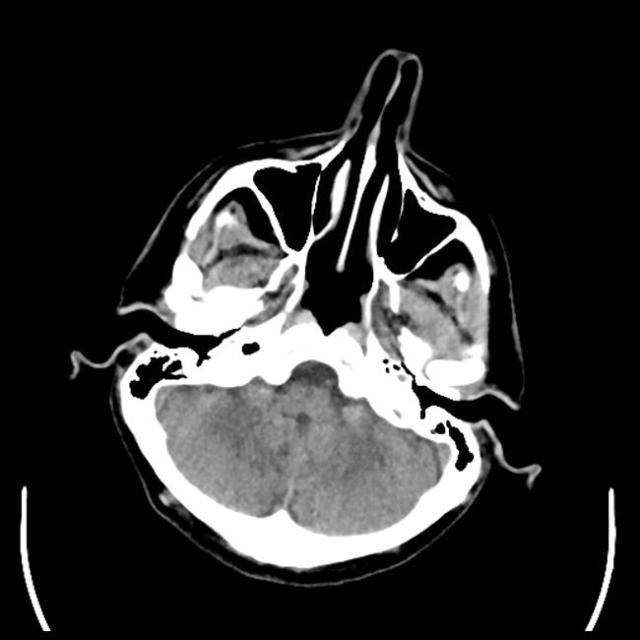lesion: (69, 46, 542, 589)
